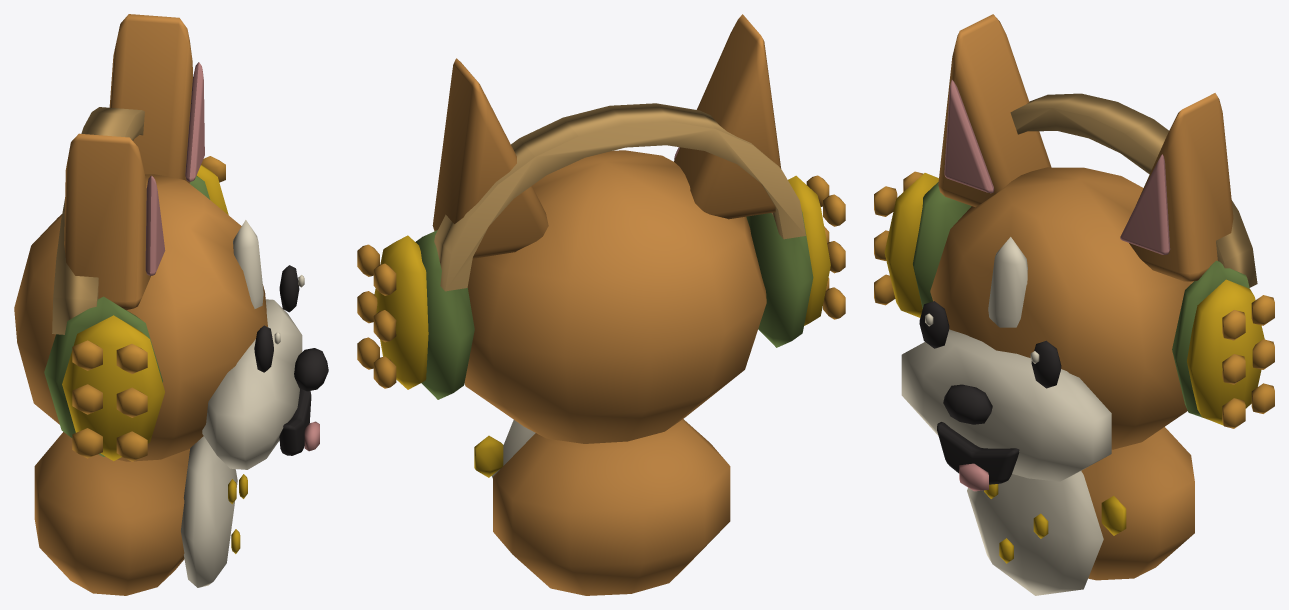
The model's file is corgi_driver.glb.
3 renders of one model, left to right at view 1: azimuth 30°, elevation 25°; view 2: azimuth 150°, elevation 25°; view 3: azimuth 270°, elevation 25°, orthographic. The views are drawn at different scales.
Parts seen in each view (by area): view 1: orange head; view 2: orange head; view 3: orange head.
Boxes of the visible parts, left/top/right/bottom form: orange head: left=14, top=14, right=328, bottom=595; orange head: left=357, top=14, right=845, bottom=595; orange head: left=874, top=14, right=1274, bottom=595.
Size of the model in its own units: 0.4327 by 0.695 by 0.4936.
